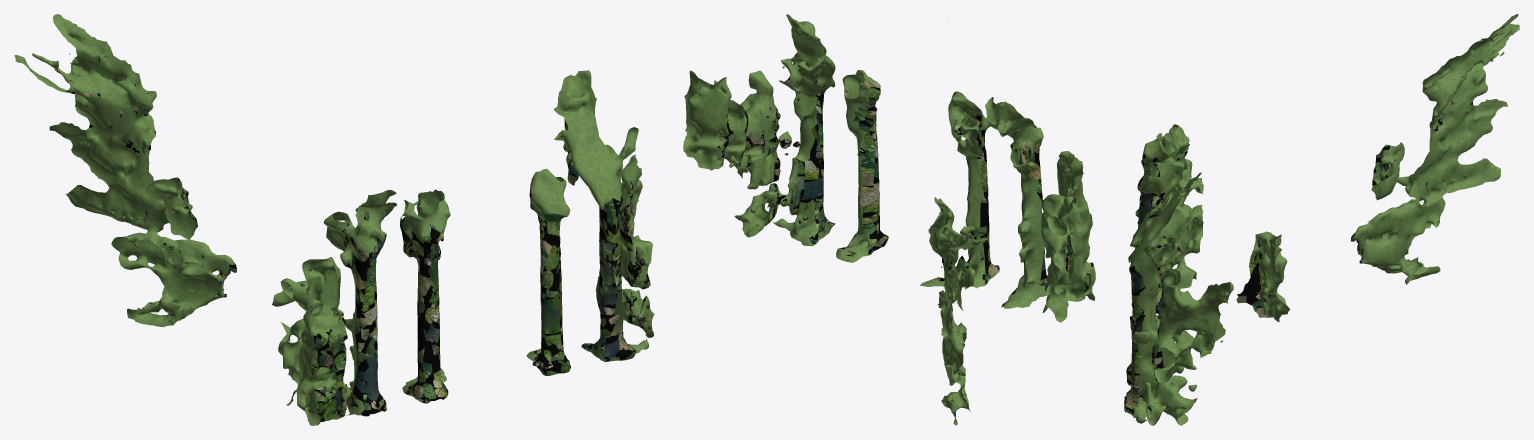
File: entrada-melbourne.obj
3 renders of one model, left to right at view 1: azimuth 30°, elevation 25°; view 2: azimuth 150°, elevation 25°; view 3: azimuth 270°, elevation 25°, orthographic. The views are drawn at different scales.
Bounding box in the file's own units: 6.38 × 3.61 × 5.23.
